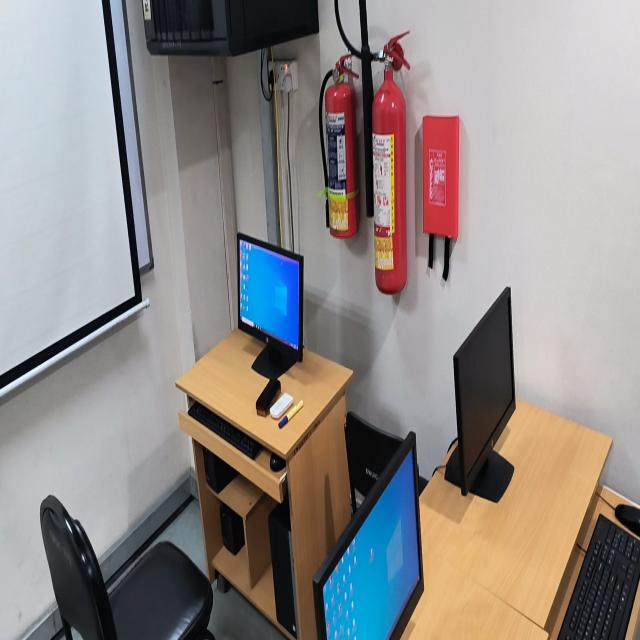Chair: (40, 495, 214, 639), (345, 412, 403, 510), (419, 477, 428, 493)
Cpu: (268, 492, 296, 638)
Fire Extinguisher: (373, 70, 406, 292), (324, 56, 359, 238)
Keyboard: (558, 516, 640, 639), (188, 401, 265, 459)
Monitor: (313, 432, 421, 639), (445, 287, 516, 502), (238, 233, 303, 384)
Mouse: (615, 504, 640, 537), (269, 453, 285, 471)
